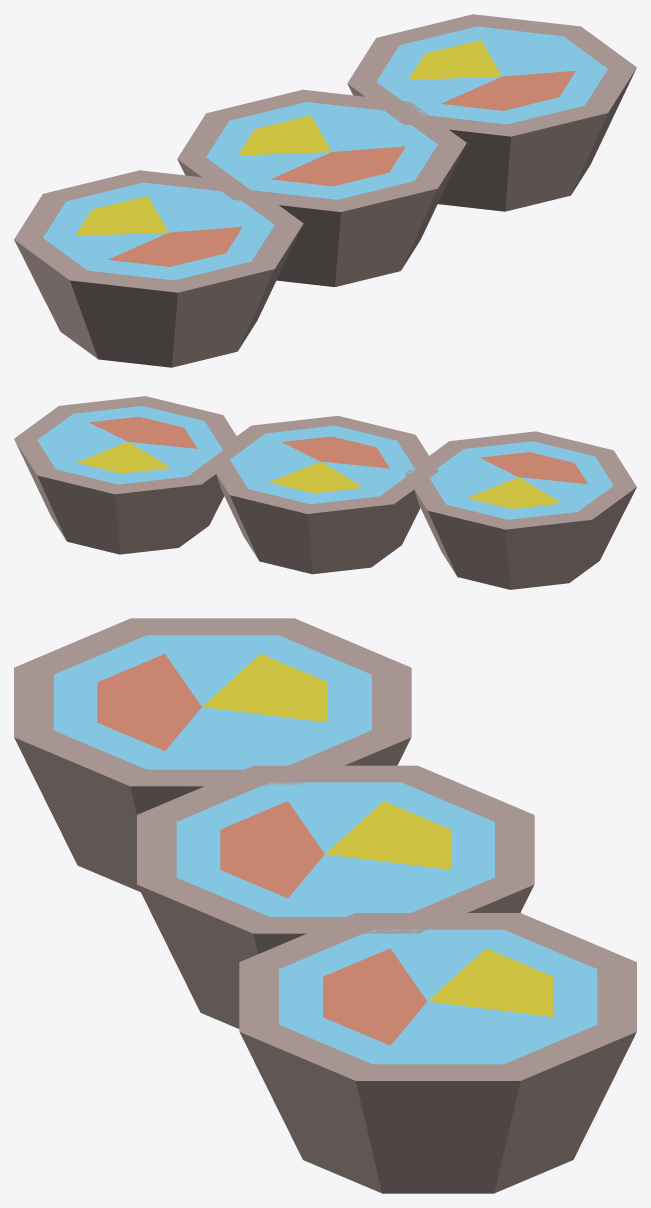
The model's file is item_produce_dye_b.obj.
3 views of the same model, one above another, from view 1: azimuth 30°, elevation 25°; view 2: azimuth 150°, elevation 25°; view 3: azimuth 270°, elevation 25° (orthographic). The views are drawn at different scales.
Size of the model in its own units: 0.9024 by 0.1268 by 0.5137.
